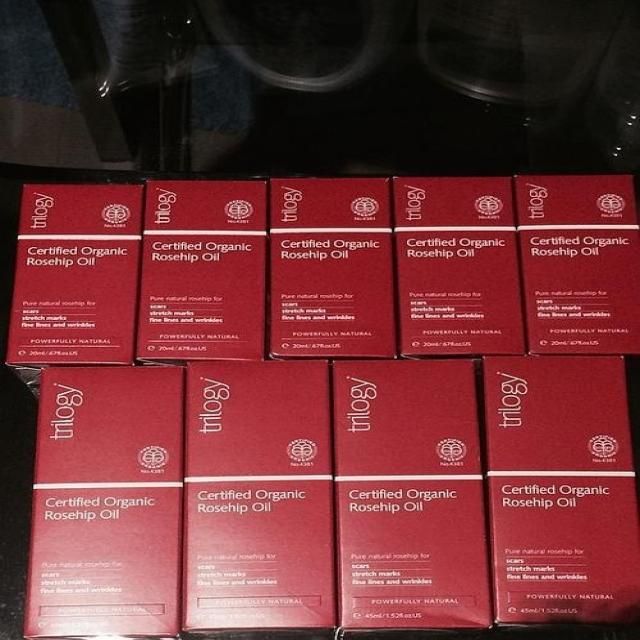box: (334, 357, 490, 638), (481, 353, 637, 634), (183, 360, 339, 639), (22, 366, 182, 637), (3, 184, 143, 405), (128, 181, 269, 363), (390, 176, 524, 355), (267, 177, 398, 357), (513, 175, 638, 355)
